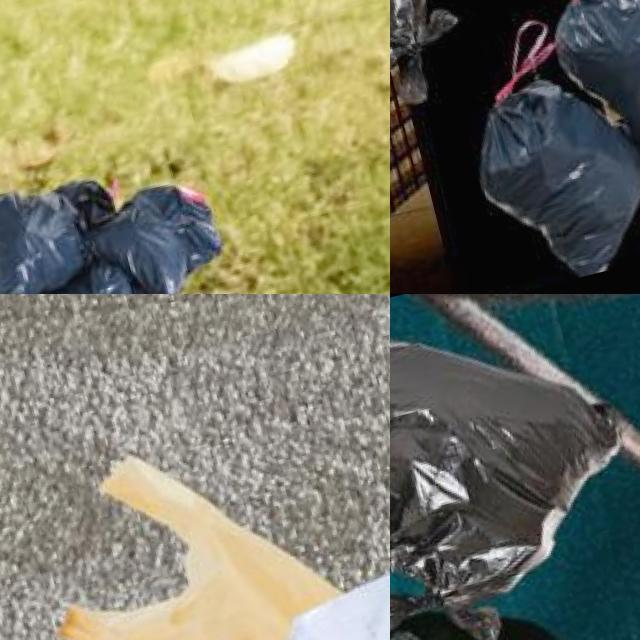waste: (390, 294, 640, 640), (27, 411, 386, 640), (458, 46, 640, 294), (270, 497, 390, 640), (0, 153, 120, 294), (96, 181, 238, 294), (547, 0, 640, 172), (10, 262, 169, 294)
